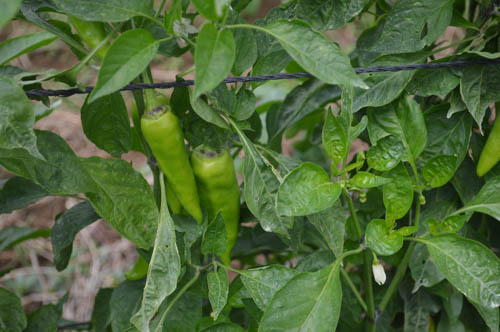ChiliPepper: (143, 109, 202, 222), (193, 150, 239, 263), (71, 17, 111, 61)
